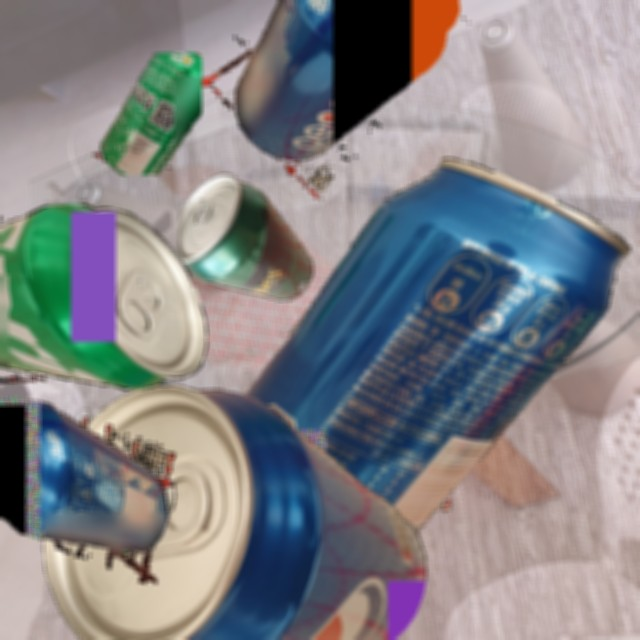pepsi: (171, 104, 640, 640), (4, 343, 467, 640), (187, 0, 488, 202), (0, 368, 211, 597)
schweppes: (178, 162, 336, 323)
sprite: (0, 196, 219, 403), (92, 53, 202, 175), (87, 457, 201, 567)
